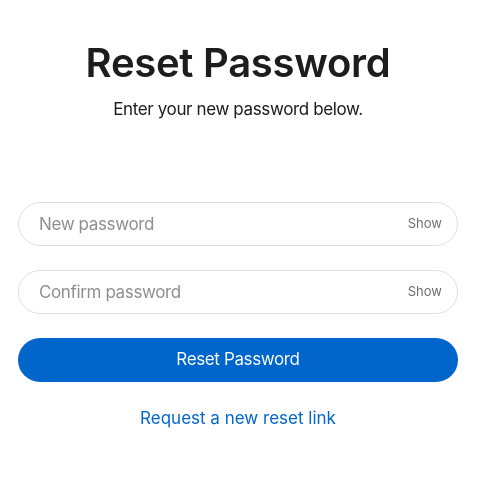
Test: ResetPasswordPage - Validation › should validate passwords match
The image size is (477, 477).
In the password field with placeholder "New password": (238, 224) [18,202,458,246], type "password123"
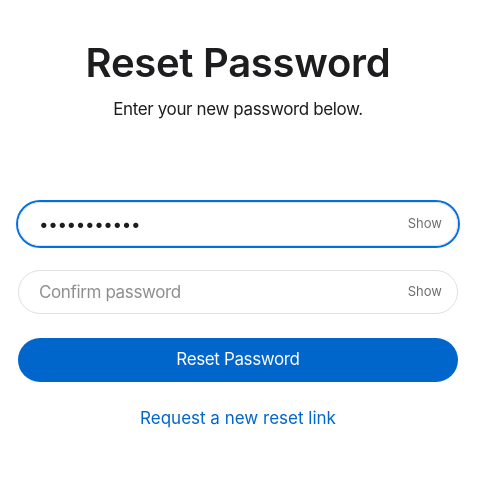
In the password field with placeholder "Confirm password": (238, 292) [18,270,458,314], type "password456"
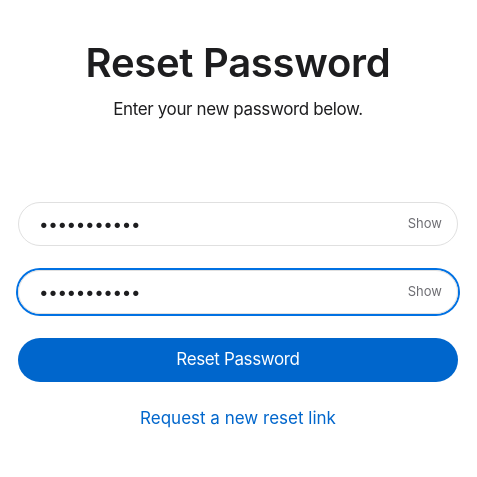
Click the button "Reset Password": (238, 360) [18,338,458,382]
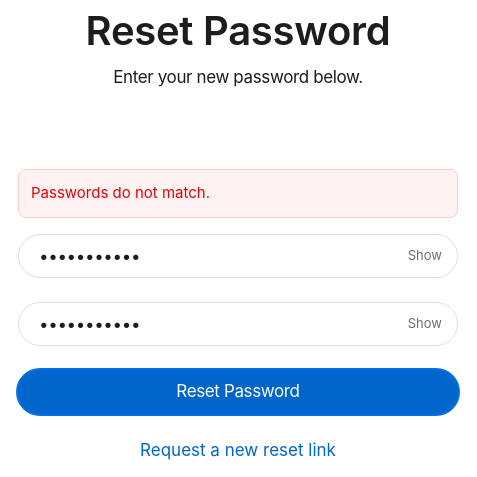
Result: the text "Passwords do not match." is shown at [18,170,458,218]
